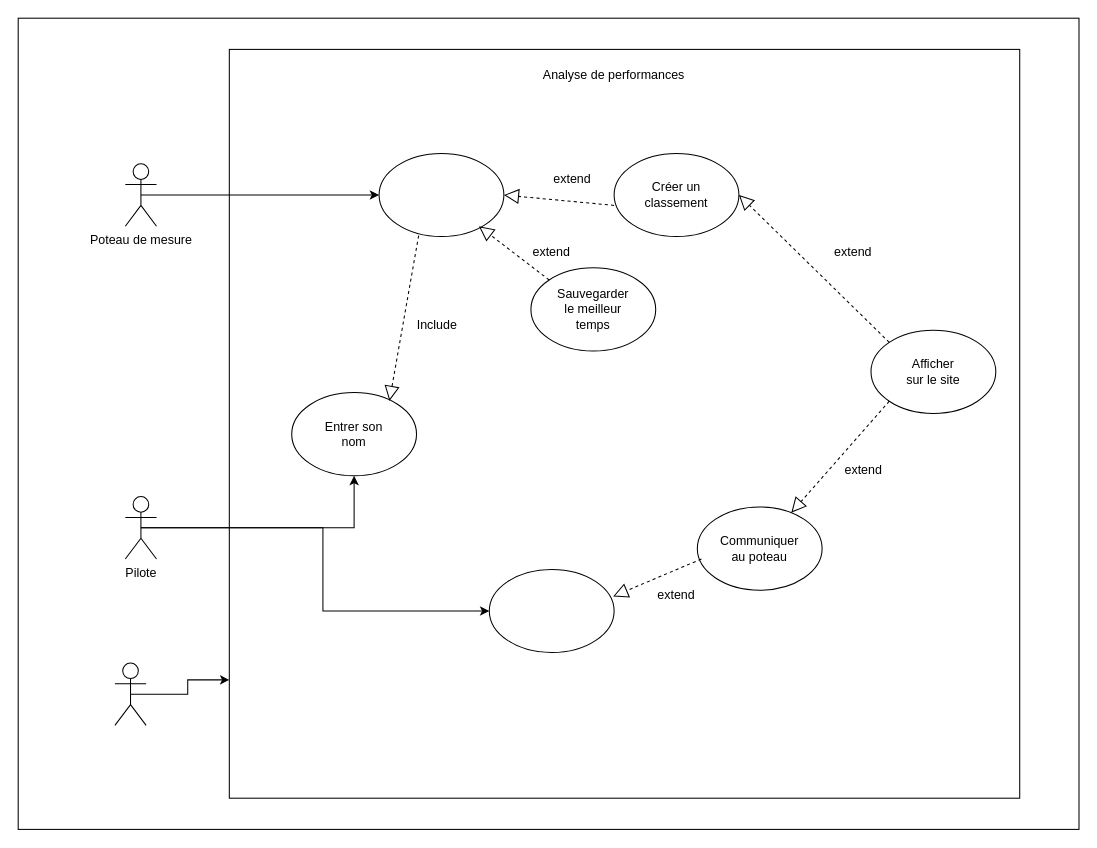
Some shapes in this 1097 by 848 pixel diagram are drawn without their labels. The box of each missing label's shape, as (x1, y1, x2, y2) in pixels:
Enregistrer sa radio: (488, 568, 614, 653)
Mesurer le temps: (378, 152, 504, 237)
Piste: (114, 662, 146, 725)
